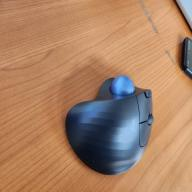mouse: (56, 63, 157, 180)
